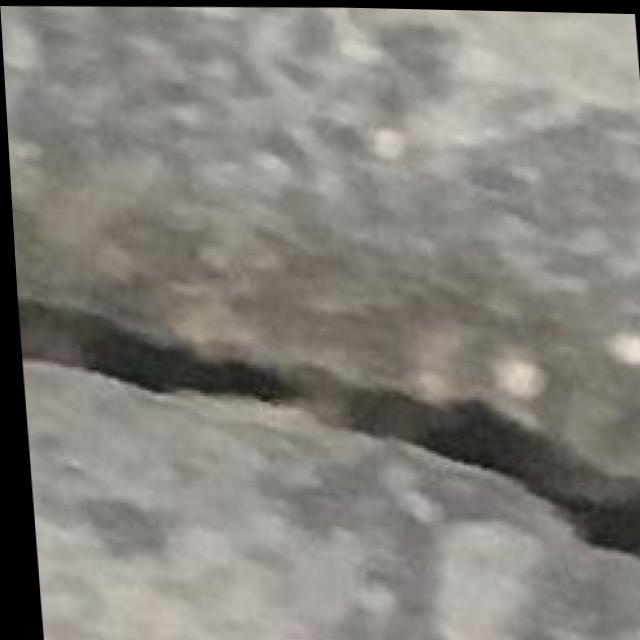Crack: (17, 302, 640, 555)
